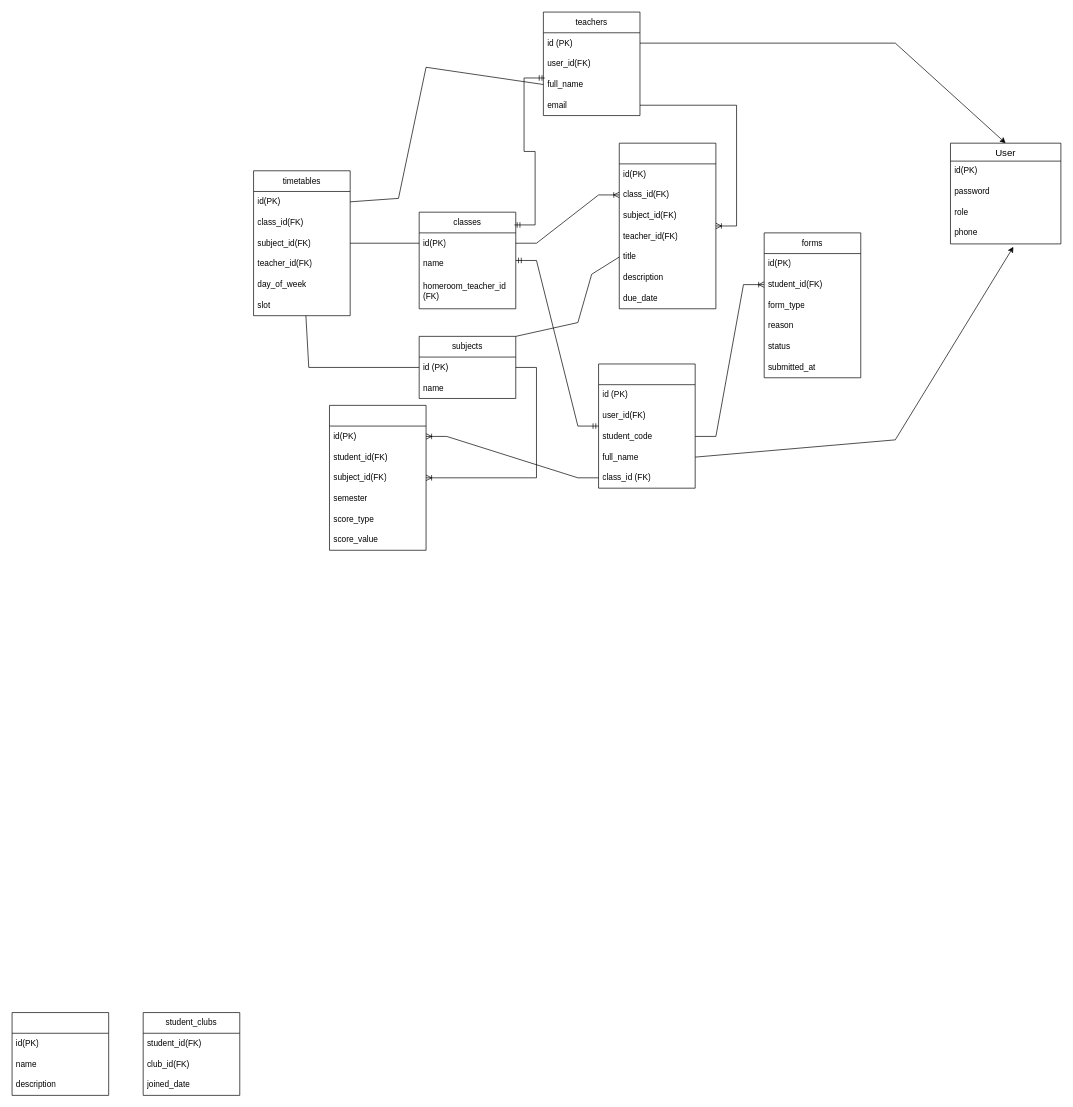
This 1073x1107 diagram has some shape labels left out. Here are the shapes that lost their labels. From the top down, the box of each, then its label:
(619, 142, 716, 309): assignments
(598, 363, 695, 488): students
(329, 405, 426, 550): grades
(11, 1012, 109, 1095): clubs
